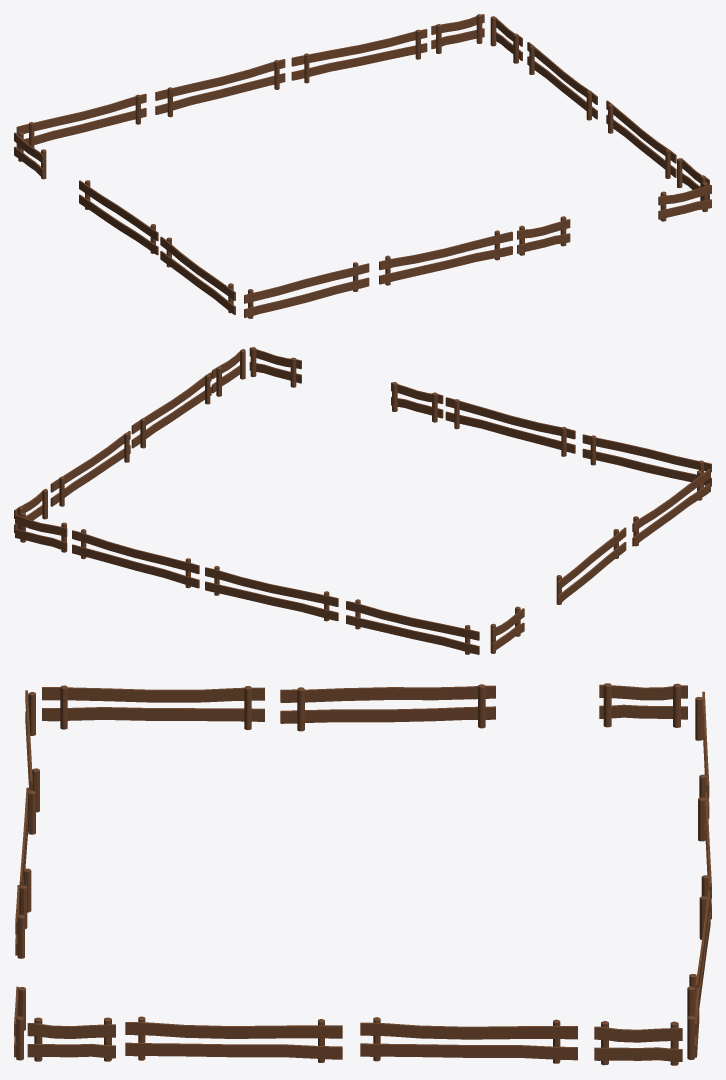
Rendered from Fence.fbx.
3 renders of one model, top to bottom at view 1: azimuth 30°, elevation 25°; view 2: azimuth 150°, elevation 25°; view 3: azimuth 270°, elevation 25°, orthographic. The views are drawn at different scales.
Parts seen in each view (by area): view 1: Fence; view 2: Fence; view 3: Fence.
Boxes of the visible parts, box(x1,y1,x2,y2) form: Fence: box(14, 14, 711, 318); Fence: box(14, 347, 711, 654); Fence: box(14, 683, 711, 1065).
Size of the model in its own units: 30.77 by 1.83 by 26.24.
